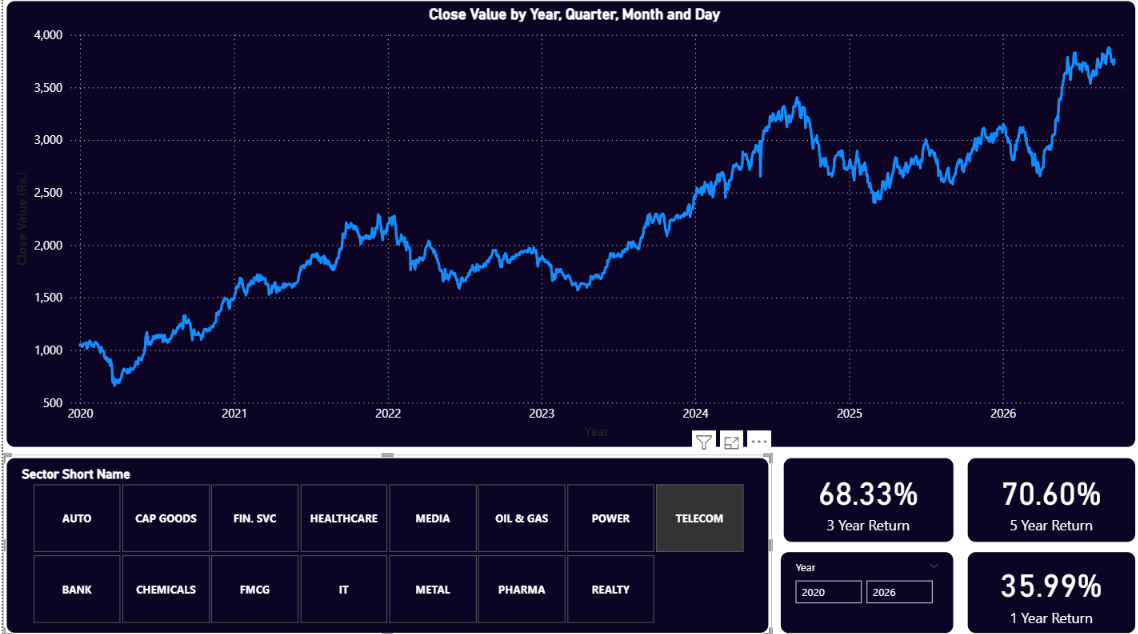

This screenshot's page, from the dashboard's own definition file:
{"tool":"powerbi","page":{"name":"Page 2","canvas":[1280,720],"ordinal":1},"visuals":[{"type":"lineChart","title":" Close Value by Year, Quarter, Month and Day","fields":{"Category":["Date Table.Date.Variation.Date Hierarchy.Year","Date Table.Date.Variation.Date Hierarchy.Quarter","Date Table.Date.Variation.Date Hierarchy.Month","Date Table.Date.Variation.Date Hierarchy.Day"],"Y":["Max(Combine Data.Close)"]},"box":[0,0,1280.2,510.5],"z":0},{"type":"slicer","fields":{"Values":["Combine Data.Sector Short Name"]},"box":[0,515.1,866.3,204.7],"z":1000},{"type":"slicer","fields":{"Values":["Date Table.Year"]},"box":[872.1,620.9,202.3,98.8],"z":1001},{"type":"card","fields":{"Values":["Combine Data.3 Year Return"]},"box":[875.6,514.5,198.8,102.3],"z":1002},{"type":"card","fields":{"Values":["Combine Data.5 Year Return"]},"box":[1083.7,514.5,196.5,102.3],"z":1003},{"type":"card","fields":{"Values":["Combine Data.1 Year Return"]},"box":[1083.7,620.9,196.5,98.8],"z":1004}]}

Visuals, with their boxes in screenshot pixels (x1, y1, x2, y2), scaled from the page's 1280x720 canvas onto the 1138x634 screenshot:
" Close Value by Year, Quarter, Month and Day" lineChart: l=0, t=0, r=1137, b=450
slicer - Combine Data.Sector Short Name: l=0, t=454, r=770, b=633
slicer - Date Table.Year: l=775, t=547, r=955, b=633
card - Combine Data.3 Year Return: l=778, t=453, r=955, b=543
card - Combine Data.5 Year Return: l=963, t=453, r=1137, b=543
card - Combine Data.1 Year Return: l=963, t=547, r=1137, b=633
